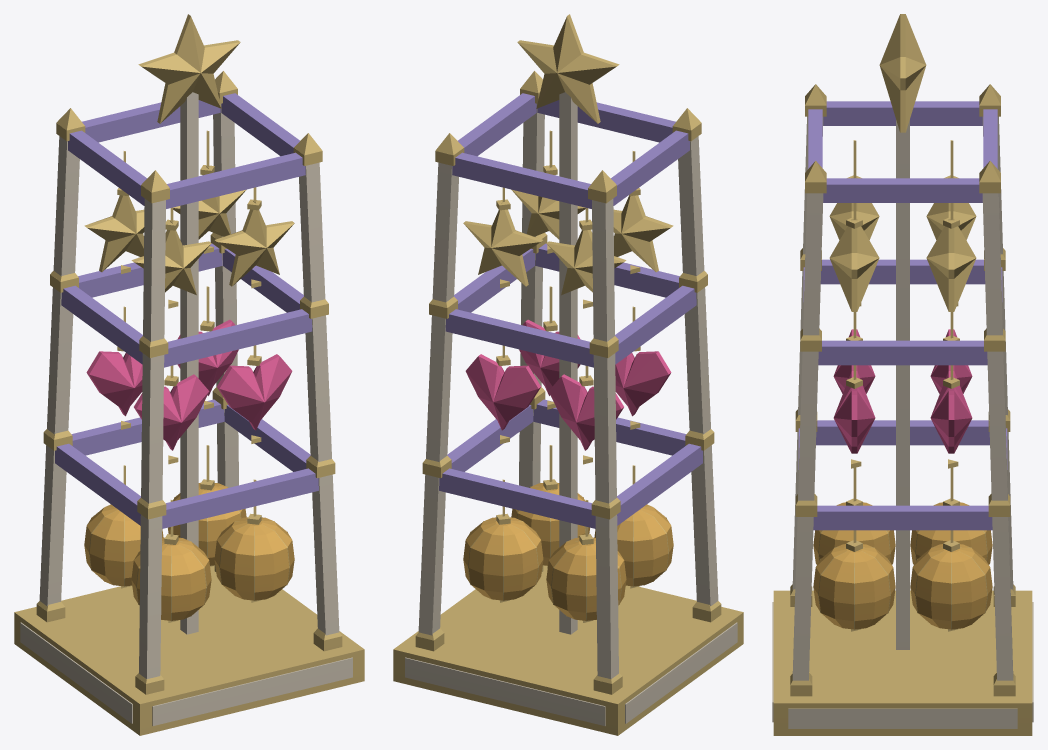
File: lantern-tower.glb
3 renders of one model, left to right at view 1: azimuth 30°, elevation 25°; view 2: azimuth 150°, elevation 25°; view 3: azimuth 270°, elevation 25°, orthographic. The views are drawn at different scales.
Parts seen in each view (by area): view 1: root_mesh, swing2_mesh, swing0_mesh, swing1_mesh, swing6_mesh, swing10_mesh, swing9_mesh, swing5_mesh, swing4_mesh, swing8_mesh, swing3_mesh, swing11_mesh (+1 smaller); view 2: root_mesh, swing3_mesh, swing1_mesh, swing0_mesh, swing7_mesh, swing11_mesh, swing8_mesh, swing4_mesh, swing5_mesh, swing9_mesh, swing2_mesh, swing10_mesh (+1 smaller); view 3: root_mesh, swing2_mesh, swing3_mesh, swing10_mesh, swing11_mesh, swing6_mesh, swing7_mesh, swing0_mesh, swing1_mesh, swing8_mesh, swing9_mesh, swing4_mesh (+1 smaller).
Boxes of the visible parts, x1,y1,x2,y2 form: root_mesh: [14, 14, 364, 735]; swing2_mesh: [214, 479, 294, 602]; swing0_mesh: [131, 500, 211, 622]; swing1_mesh: [84, 465, 163, 588]; swing6_mesh: [217, 345, 292, 443]; swing10_mesh: [215, 187, 294, 288]; swing9_mesh: [84, 151, 144, 273]; swing5_mesh: [86, 306, 142, 429]; swing4_mesh: [134, 365, 209, 464]; swing8_mesh: [131, 207, 211, 308]; swing3_mesh: [168, 445, 246, 566]; swing11_mesh: [173, 130, 246, 253]; root_mesh: [393, 14, 743, 735]; swing3_mesh: [463, 479, 543, 602]; swing1_mesh: [546, 500, 626, 622]; swing0_mesh: [594, 465, 673, 588]; swing7_mesh: [465, 345, 540, 443]; swing11_mesh: [463, 187, 542, 288]; swing8_mesh: [613, 151, 673, 273]; swing4_mesh: [615, 306, 671, 429]; swing5_mesh: [548, 366, 623, 464]; swing9_mesh: [546, 208, 626, 308]; swing2_mesh: [511, 445, 589, 567]; swing10_mesh: [511, 130, 585, 253]; root_mesh: [772, 14, 1033, 735]; swing2_mesh: [813, 505, 895, 631]; swing3_mesh: [910, 505, 992, 631]; swing10_mesh: [829, 203, 879, 311]; swing11_mesh: [926, 203, 976, 311]; swing6_mesh: [833, 365, 875, 468]; swing7_mesh: [930, 365, 972, 468]; swing0_mesh: [813, 467, 895, 564]; swing1_mesh: [910, 467, 992, 564]; swing8_mesh: [829, 140, 879, 240]; swing9_mesh: [926, 140, 976, 240]; swing4_mesh: [833, 312, 875, 393].
Bounding box in the file's own units: 3.3 × 9 × 3.2.
